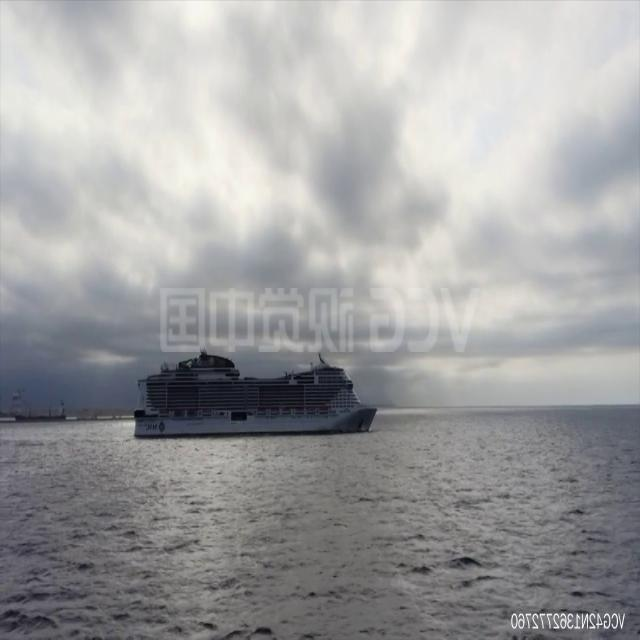passenger ship: (133, 349, 378, 435)
